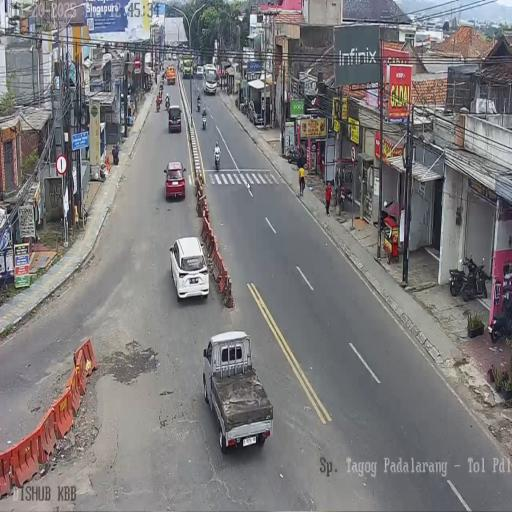car: (169, 234, 210, 300), (164, 160, 187, 200), (167, 104, 182, 134), (166, 65, 176, 85), (196, 65, 204, 79), (172, 53, 177, 60)
motorcycle: (462, 254, 488, 302), (490, 287, 512, 342), (449, 267, 466, 297), (286, 144, 300, 165), (214, 152, 220, 170), (240, 100, 247, 115), (202, 112, 206, 130), (196, 98, 201, 112), (165, 96, 170, 110), (156, 97, 161, 111), (162, 70, 166, 82), (150, 80, 153, 93)
truck: (202, 64, 218, 95), (182, 56, 193, 80), (168, 52, 172, 60)
